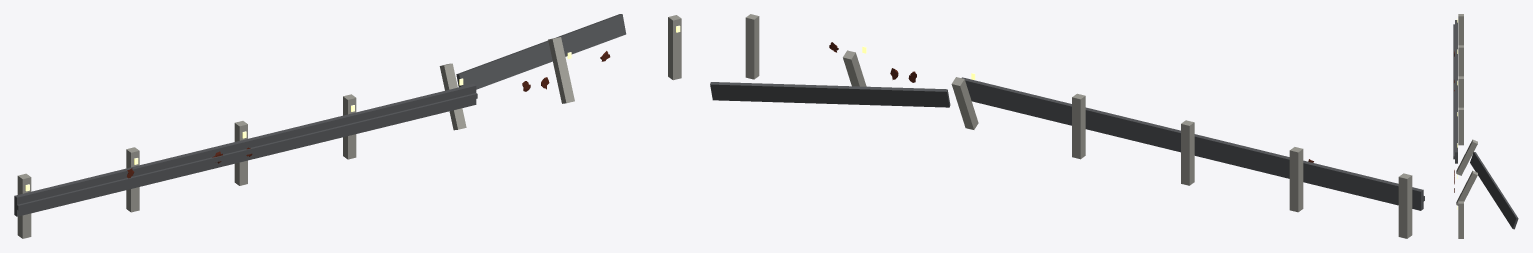
File: pass_guardrail.glb
3 renders of one model, left to right at view 1: azimuth 30°, elevation 25°; view 2: azimuth 150°, elevation 25°; view 3: azimuth 270°, elevation 25°, orthographic. The views are drawn at different scales.
Parts seen in each view (by area): view 1: pass_guardrail; view 2: pass_guardrail; view 3: pass_guardrail.
Boxes of the visible parts, x1,y1,x2,y2 form: pass_guardrail: [14, 14, 681, 238]; pass_guardrail: [710, 14, 1424, 238]; pass_guardrail: [1453, 14, 1518, 238].
Bounding box in the file's own units: 11.7 × 1 × 1.68.
